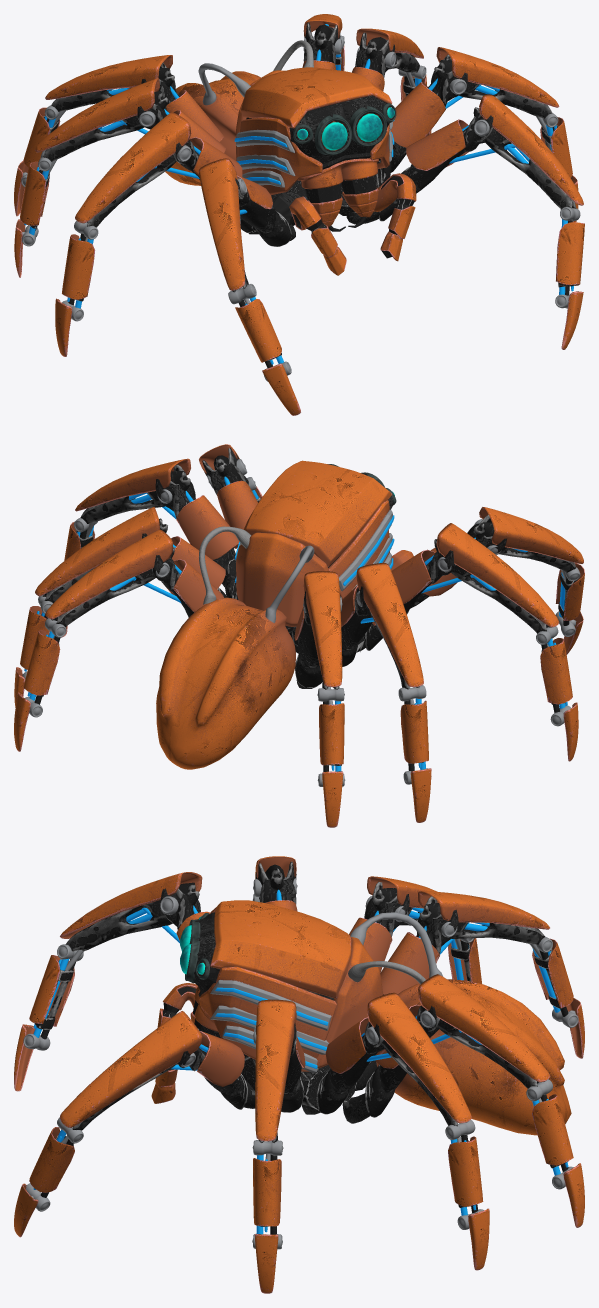
File: Spider_Robot_v02b.glb
3 views of the same model, one above another, from view 1: azimuth 30°, elevation 25°; view 2: azimuth 150°, elevation 25°; view 3: azimuth 270°, elevation 25° (orthographic). The views are drawn at different scales.
Visible parts, largest first — view 1: group4_group2_polySurface229, group2 group3 polySurface228, group2 group3 polySurface227, group2 group3 polySurface229, polySurface230 group2 group3, group1 polySurface127, group1 polySurface90, group1 polySurface105, group2 group3 polySurface223, group2 group3 polySurface226, group2 group3 polySurface1, group1 polySurface3 (+4 smaller); view 2: group4_group2_polySurface229, group1 polySurface105, group2 group3 polySurface228, group1 polySurface90, group2 group3 polySurface229, polySurface230 group2 group3, group2 group3 polySurface227, polySurface143 group1, group2 group3 polySurface223, _polySurface179group6group2group3, group2 group3 polySurface2, group2 group3 polySurface179 group5 (+1 smaller); view 3: group4_group2_polySurface229, polySurface230 group2 group3, group1 polySurface105, group2 group3 polySurface227, group1 polySurface90, group2 group3 polySurface229, group1 polySurface127, polySurface143 group1, group2 group3 polySurface228, group2 group3 polySurface179 group5, _polySurface179group6group2group3, group2 group3 polySurface226.
Boxes of the visible parts, left/top/right/bottom form: group4_group2_polySurface229: left=302, top=14, right=584, bottom=349; group2 group3 polySurface228: left=55, top=112, right=252, bottom=356; group2 group3 polySurface227: left=198, top=158, right=300, bottom=415; group2 group3 polySurface229: left=14, top=78, right=225, bottom=277; polySurface230 group2 group3: left=14, top=55, right=223, bottom=216; group1 polySurface127: left=246, top=95, right=414, bottom=258; group1 polySurface90: left=241, top=67, right=392, bottom=128; group1 polySurface105: left=165, top=71, right=260, bottom=185; group2 group3 polySurface223: left=238, top=117, right=322, bottom=195; group2 group3 polySurface226: left=289, top=196, right=346, bottom=275; group2 group3 polySurface1: left=234, top=136, right=295, bottom=187; group1 polySurface3: left=298, top=158, right=378, bottom=189; group4_group2_polySurface229: left=14, top=444, right=338, bottom=751; group1 polySurface105: left=156, top=597, right=295, bottom=769; group2 group3 polySurface228: left=357, top=523, right=578, bottom=761; group1 polySurface90: left=244, top=460, right=392, bottom=567; group2 group3 polySurface229: left=340, top=563, right=431, bottom=822; polySurface230 group2 group3: left=294, top=571, right=345, bottom=827; group2 group3 polySurface227: left=406, top=507, right=584, bottom=654; polySurface143 group1: left=236, top=532, right=328, bottom=626; group2 group3 polySurface223: left=328, top=500, right=389, bottom=599; _polySurface179group6group2group3: left=199, top=526, right=251, bottom=604; group2 group3 polySurface2: left=338, top=509, right=392, bottom=591; group2 group3 polySurface179 group5: left=265, top=545, right=314, bottom=622; group4_group2_polySurface229: left=14, top=937, right=584, bottom=1293; polySurface230 group2 group3: left=355, top=891, right=584, bottom=1090; group1 polySurface105: left=376, top=979, right=571, bottom=1135; group2 group3 polySurface227: left=14, top=872, right=210, bottom=1091; group1 polySurface90: left=210, top=900, right=351, bottom=998; group2 group3 polySurface229: left=349, top=876, right=481, bottom=983; group1 polySurface127: left=162, top=912, right=356, bottom=1110; polySurface143 group1: left=316, top=937, right=383, bottom=1068; group2 group3 polySurface228: left=252, top=856, right=297, bottom=911; group2 group3 polySurface179 group5: left=350, top=912, right=442, bottom=977; _polySurface179group6group2group3: left=348, top=961, right=425, bottom=984; group2 group3 polySurface226: left=157, top=983, right=197, bottom=1027.
Bounding box in the file's own units: 1.23 × 0.5051 × 1.06.
Materials: 2 (2 with a texture image).
